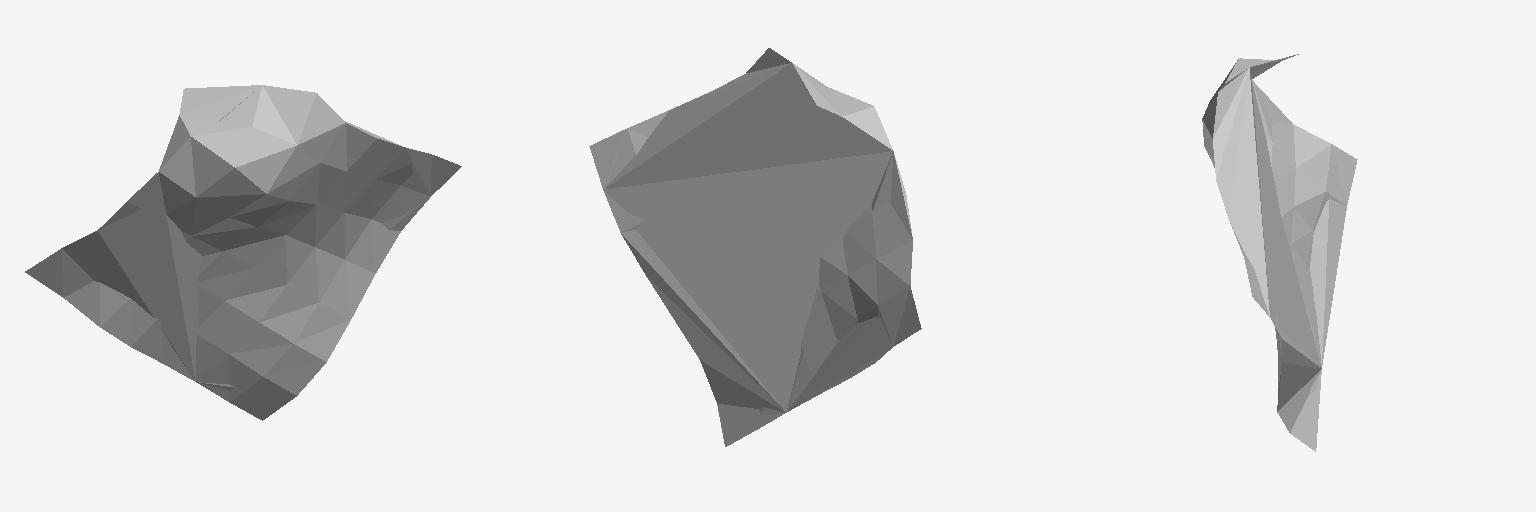
Rendered from paper.obj.
3 renders of one model, left to right at view 1: azimuth 30°, elevation 25°; view 2: azimuth 150°, elevation 25°; view 3: azimuth 270°, elevation 25°, orthographic.
Visible parts, largest first — view 1: Paper; view 2: Paper; view 3: Paper.
Part boxes in pixels (x1,y1,x2,y2): Paper: (25,85,461,420); Paper: (589,48,921,446); Paper: (1202,54,1357,451).
Bounding box in the file's own units: 2.71 × 2.48 × 0.9472.